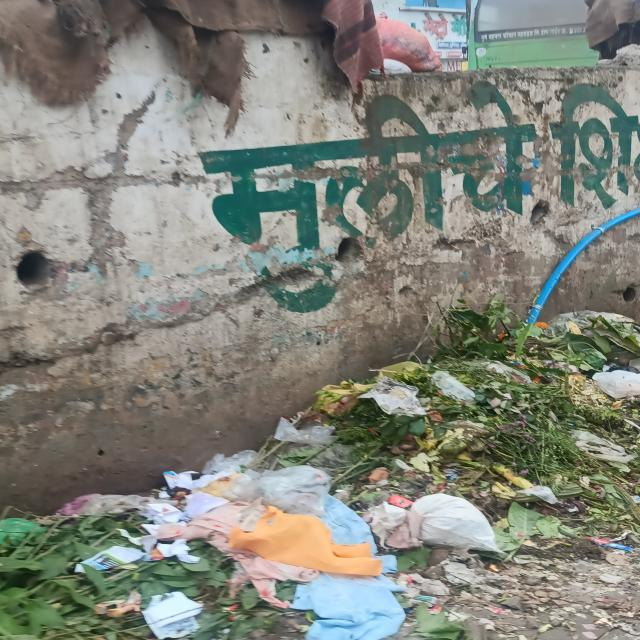garbage: (352, 310, 640, 572), (0, 455, 370, 640)
